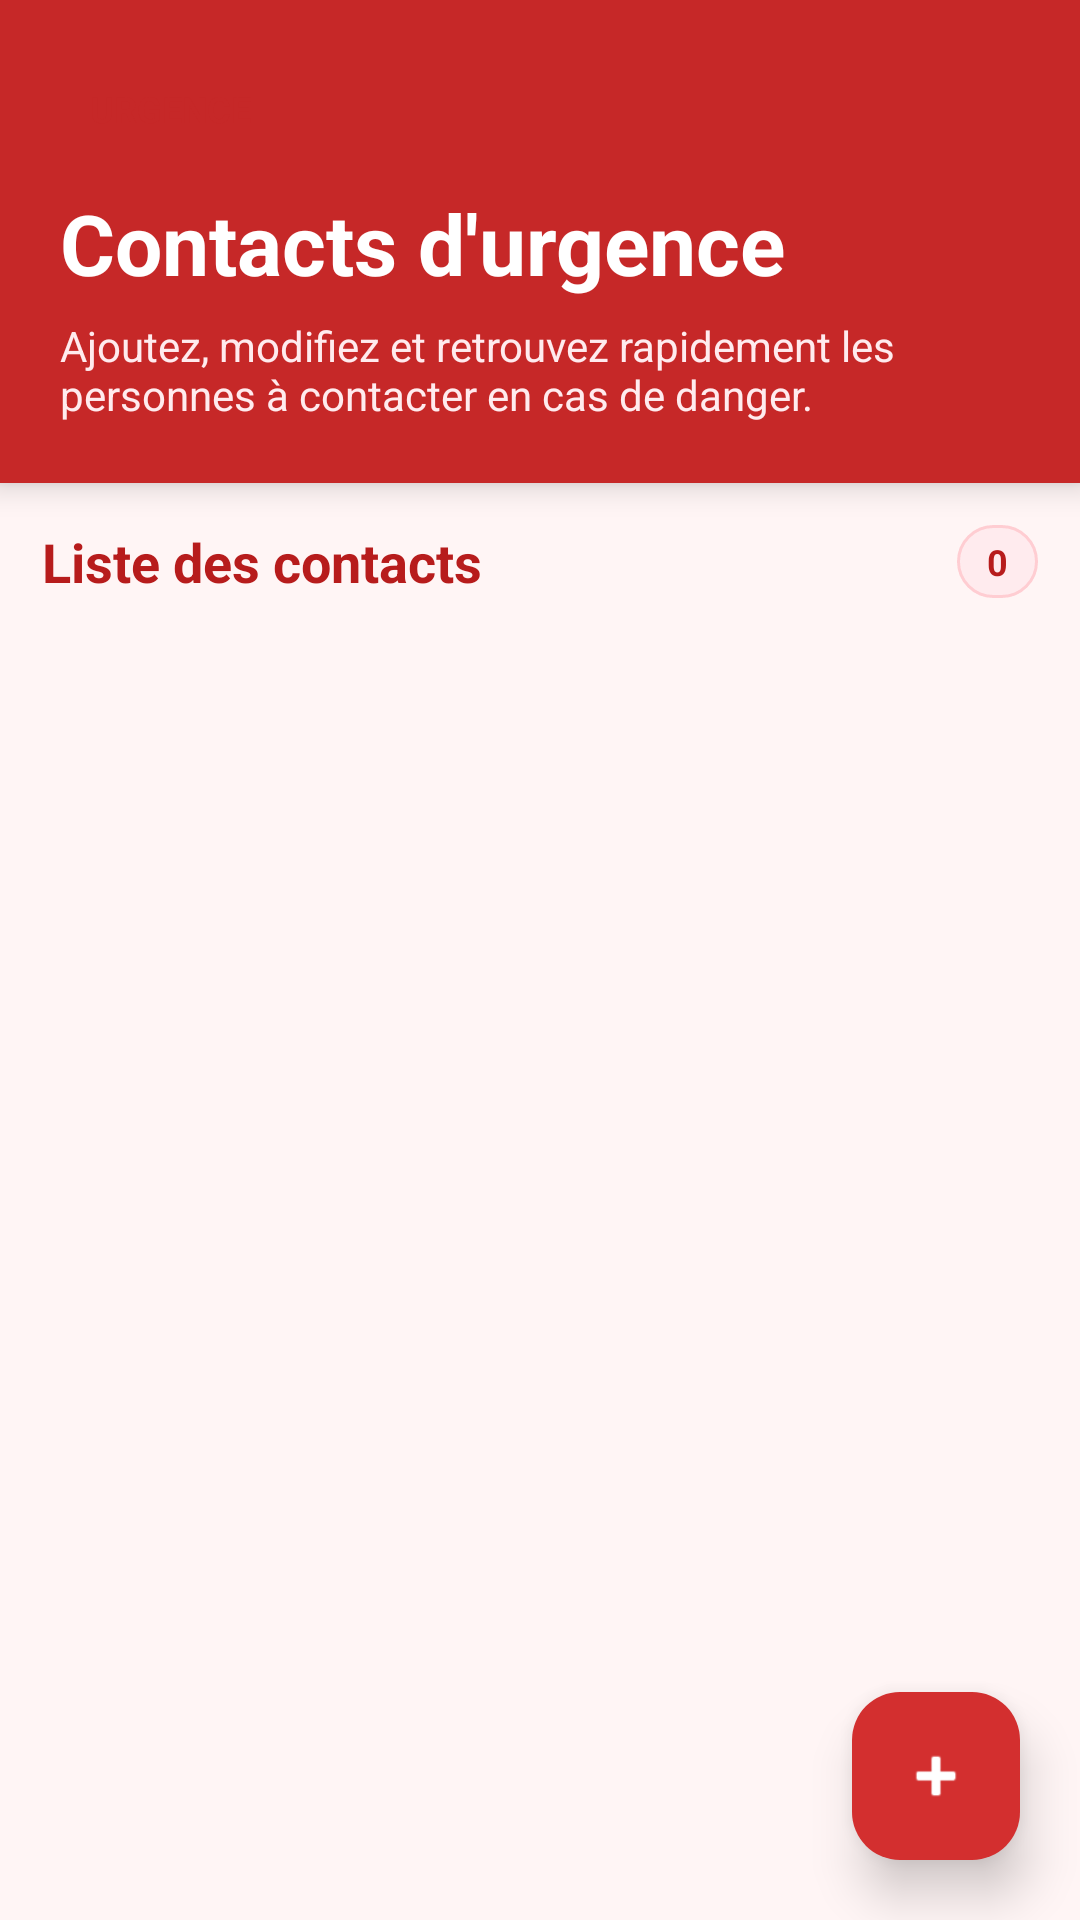

Icon click points for this 1080w x 1920h phone screenshot, format (x=x, y=y):
Ajouter un contact d'urgence: (x=936, y=1776)
